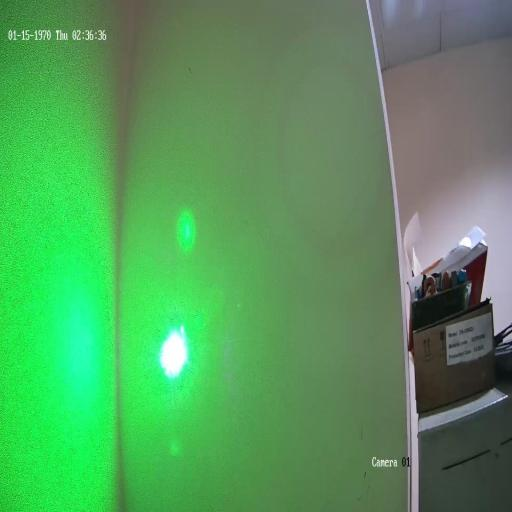laser: (155, 316, 192, 386)
